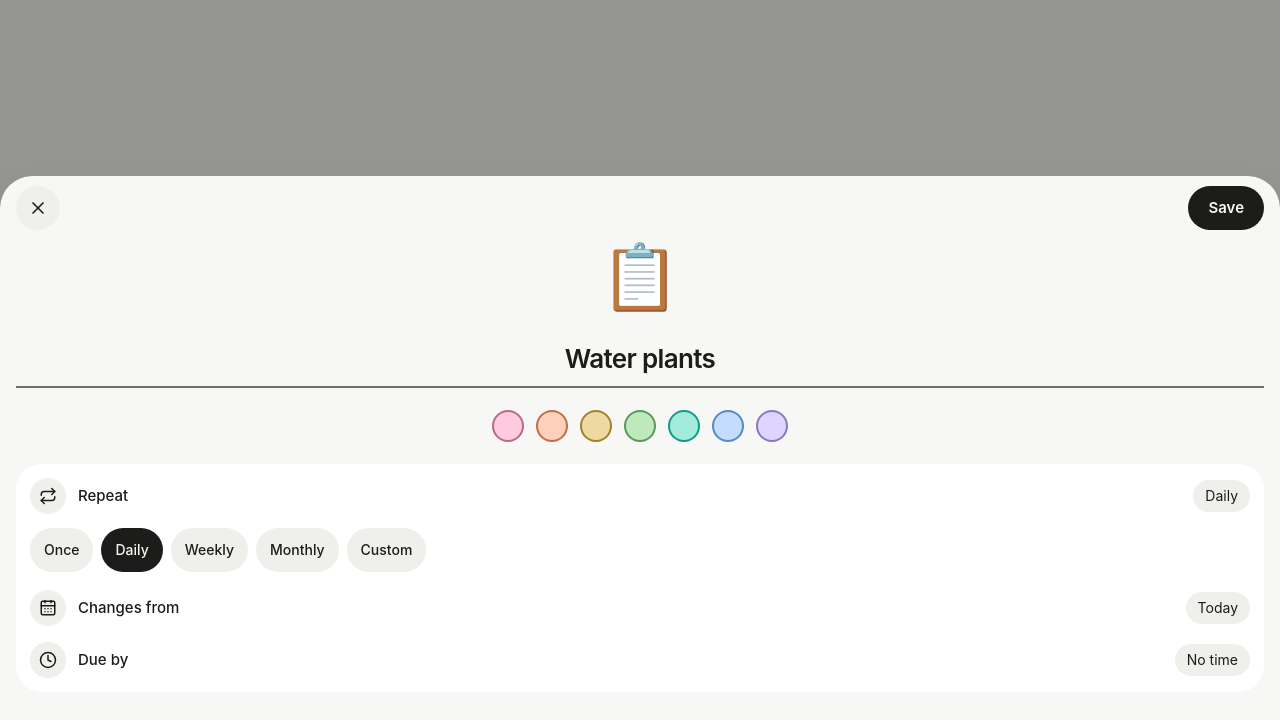
Test: AddTaskSheet › editing › says nothing changed instead of sending an empty update
Check: the button "Daily" is shown, box [102,528,163,572]
Click the button "Save" at (1226, 208), box [1188,186,1264,230]
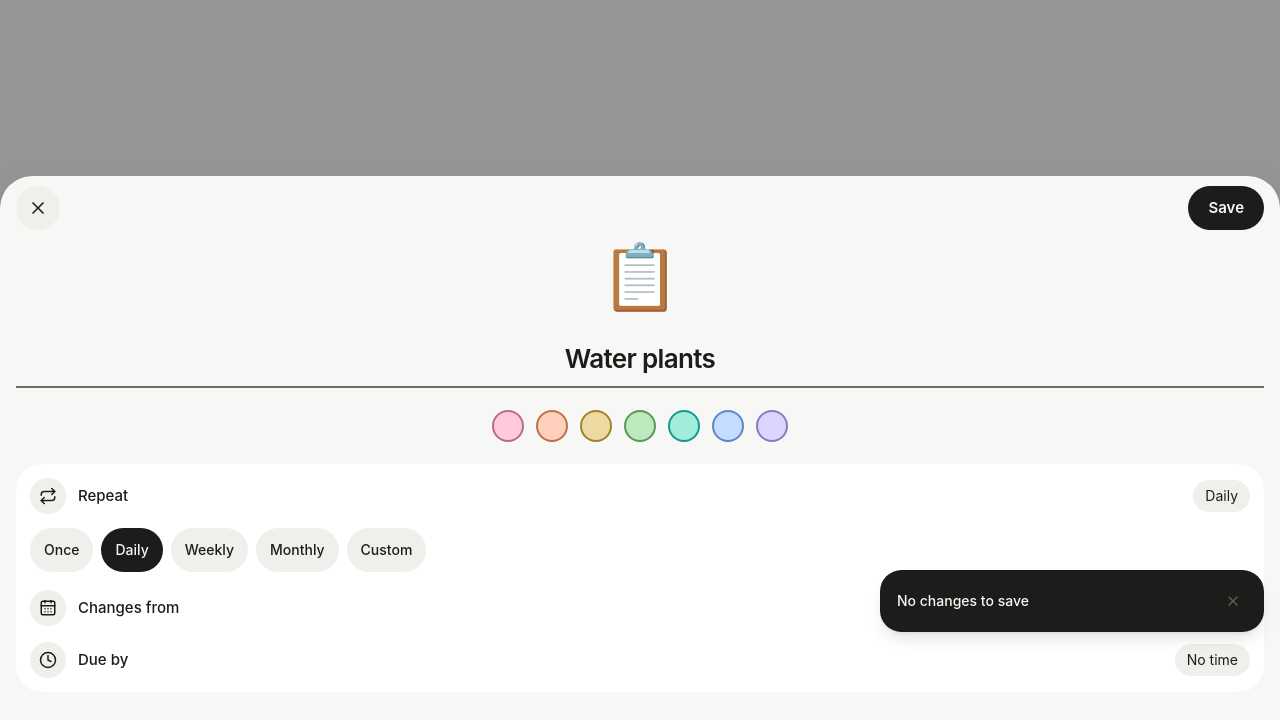
Check: the heading "No changes to save" is shown, box [897,592,1029,609]
